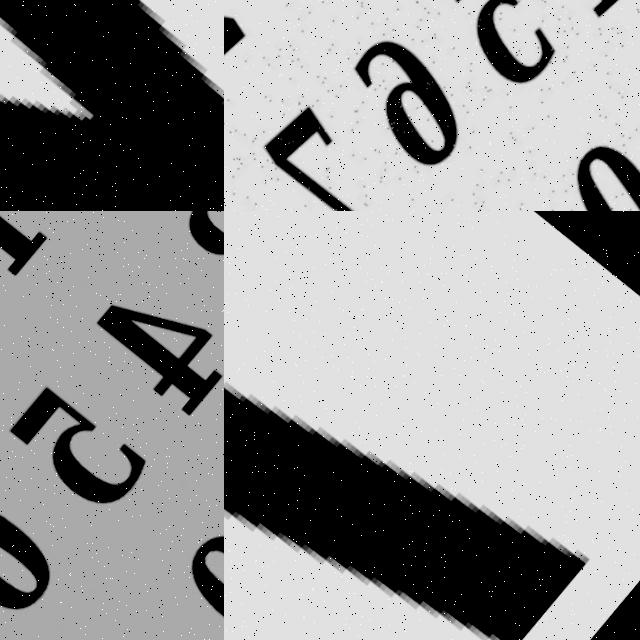0: (500, 87, 640, 211), (142, 491, 224, 640)
2: (224, 0, 297, 106)
3: (144, 211, 224, 339)
4: (72, 264, 224, 445)
5: (0, 359, 171, 537), (393, 0, 608, 126)
6: (277, 0, 531, 211), (0, 446, 90, 640)
7: (224, 57, 437, 211)
L: (224, 218, 603, 640)
V: (0, 0, 224, 211)
